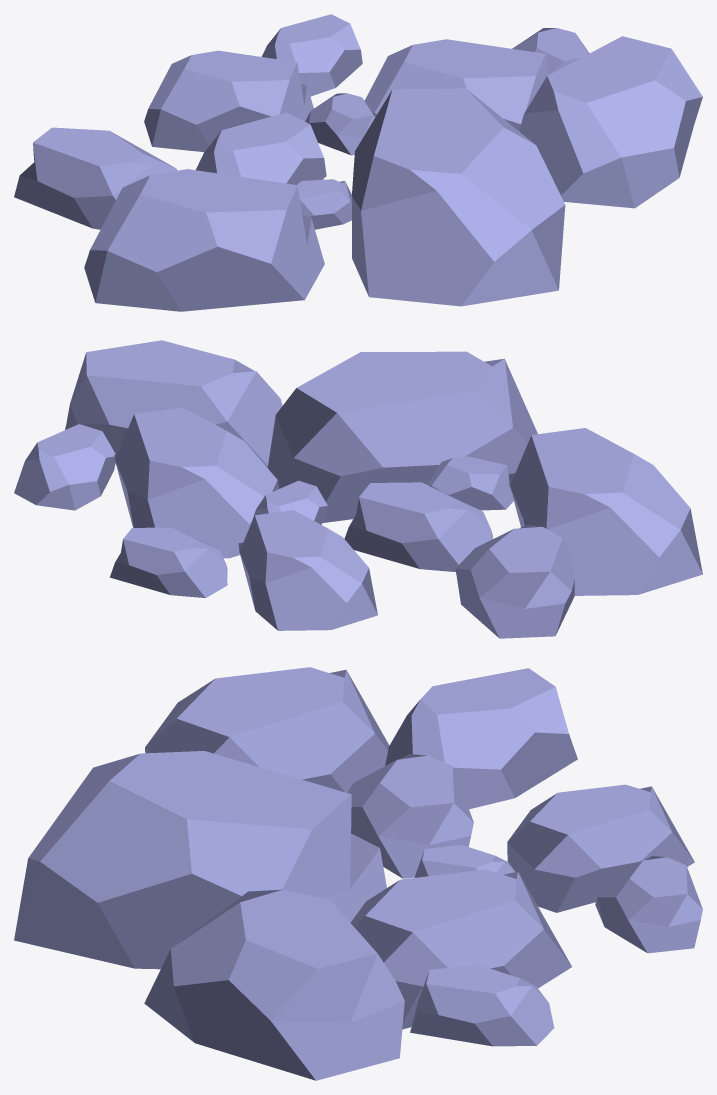
File: ENV_RubbleCluster.fbx
The picture shows the model from 3 angles, top to bottom: view 1: azimuth 30°, elevation 25°; view 2: azimuth 150°, elevation 25°; view 3: azimuth 270°, elevation 25°; orthographic projection. The views are drawn at different scales.
Parts seen in each view (by area): view 1: Icosphere.010; view 2: Icosphere.010; view 3: Icosphere.010.
Boxes of the visible parts, <box> form: Icosphere.010: <box>14,14,702,311</box>; Icosphere.010: <box>14,340,702,638</box>; Icosphere.010: <box>14,667,702,1080</box>.
Size of the model in its own units: 450 by 569 by 95.32.
